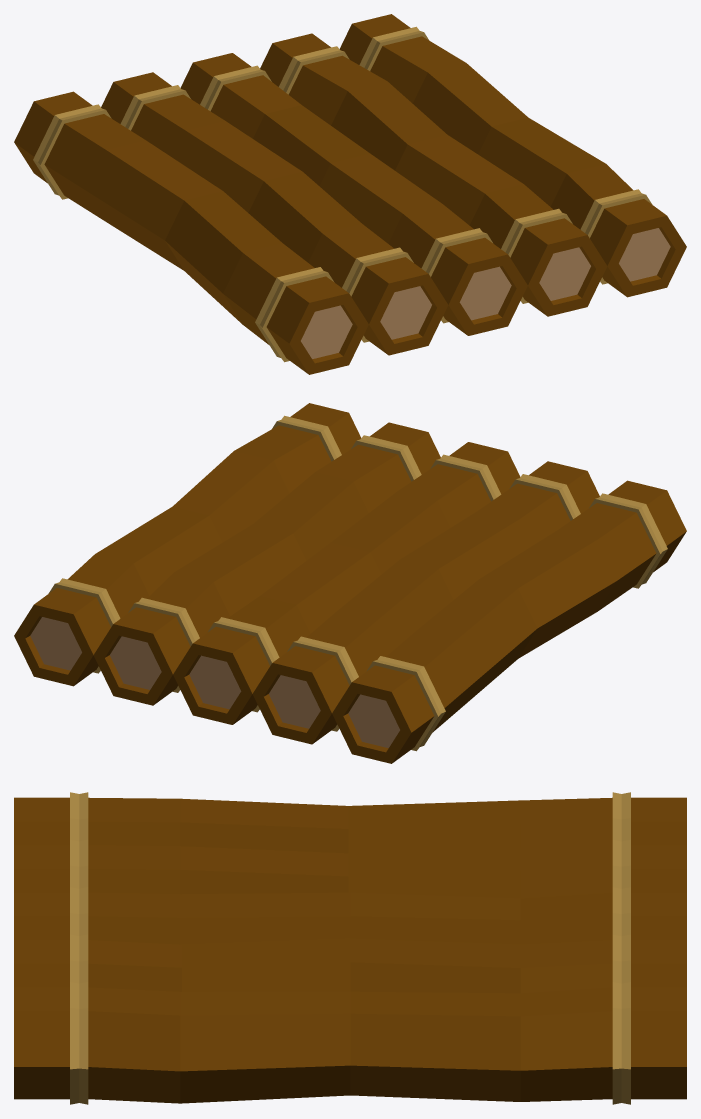
File: RaftOhDamV1.fbx
3 views of the same model, one above another, from view 1: azimuth 30°, elevation 25°; view 2: azimuth 150°, elevation 25°; view 3: azimuth 270°, elevation 25° (orthographic). The views are drawn at different scales.
Parts seen in each view (by area): view 1: Cylinder.001, Cylinder.002; view 2: Cylinder.001, Cylinder.002; view 3: Cylinder.001, Cylinder.002.
Boxes of the visible parts, x1,y1,x2,y2 form: Cylinder.001: [28, 14, 686, 374]; Cylinder.002: [14, 14, 665, 373]; Cylinder.001: [15, 403, 686, 763]; Cylinder.002: [14, 403, 681, 763]; Cylinder.001: [14, 792, 686, 1104]; Cylinder.002: [14, 793, 686, 1104].
Size of the model in its own units: 514 by 95.26 by 600.
